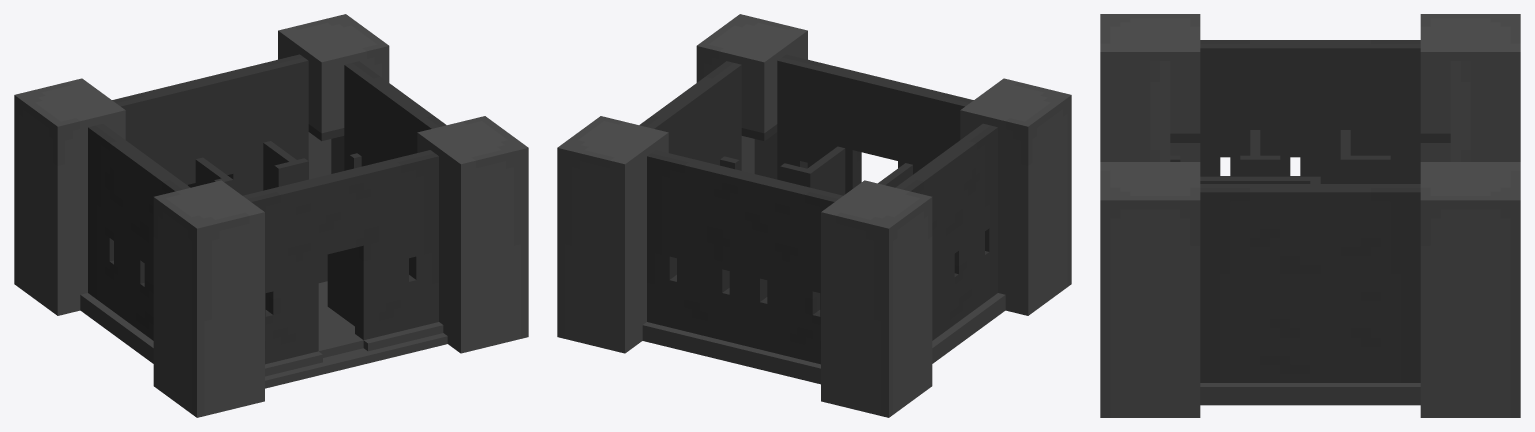
The model's file is Prison-1-Prison Base.obj.
3 renders of one model, left to right at view 1: azimuth 30°, elevation 25°; view 2: azimuth 150°, elevation 25°; view 3: azimuth 270°, elevation 25°, orthographic. The views are drawn at different scales.
Visible parts, largest first — view 1: Prison Base; view 2: Prison Base; view 3: Prison Base.
Part boxes in pixels (x1,y1,x2,y2): Prison Base: (14, 14, 528, 417); Prison Base: (557, 14, 1071, 417); Prison Base: (1100, 14, 1520, 417).
Bounding box in the file's own units: 4.4 × 2.4 × 4.2.
